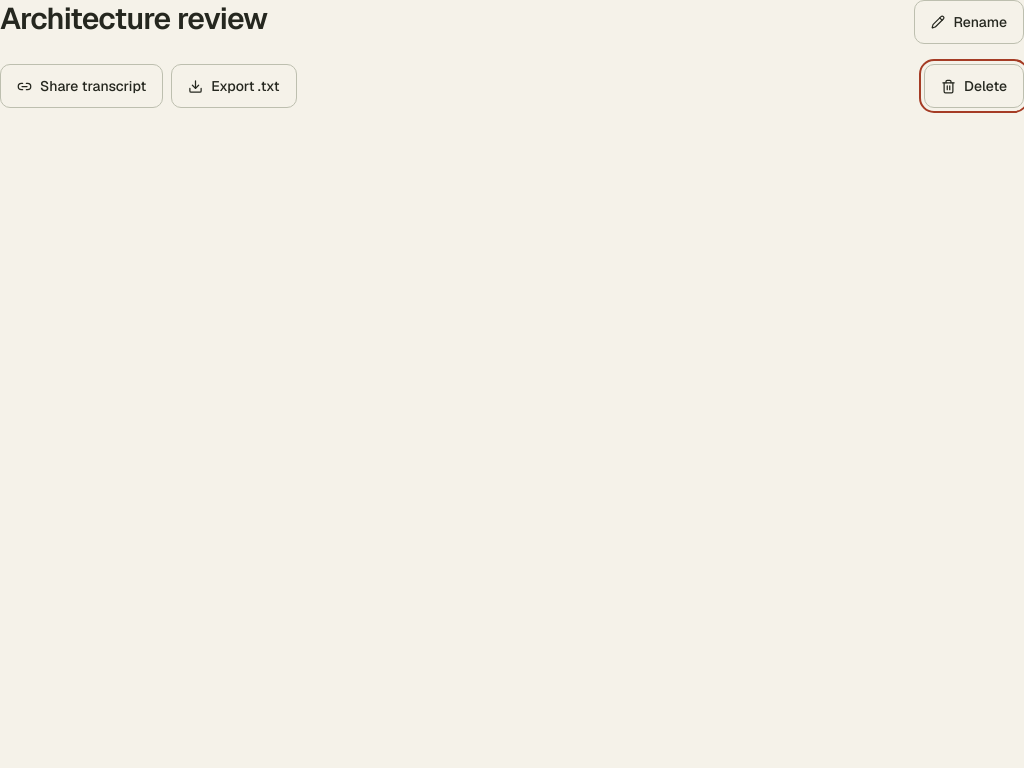
Test: saved transcript actions › opens a real confirmation before deletion and supports keeping the transcript
Click the button with aria-label "Delete transcript": (974, 86) [924, 64, 1023, 108]
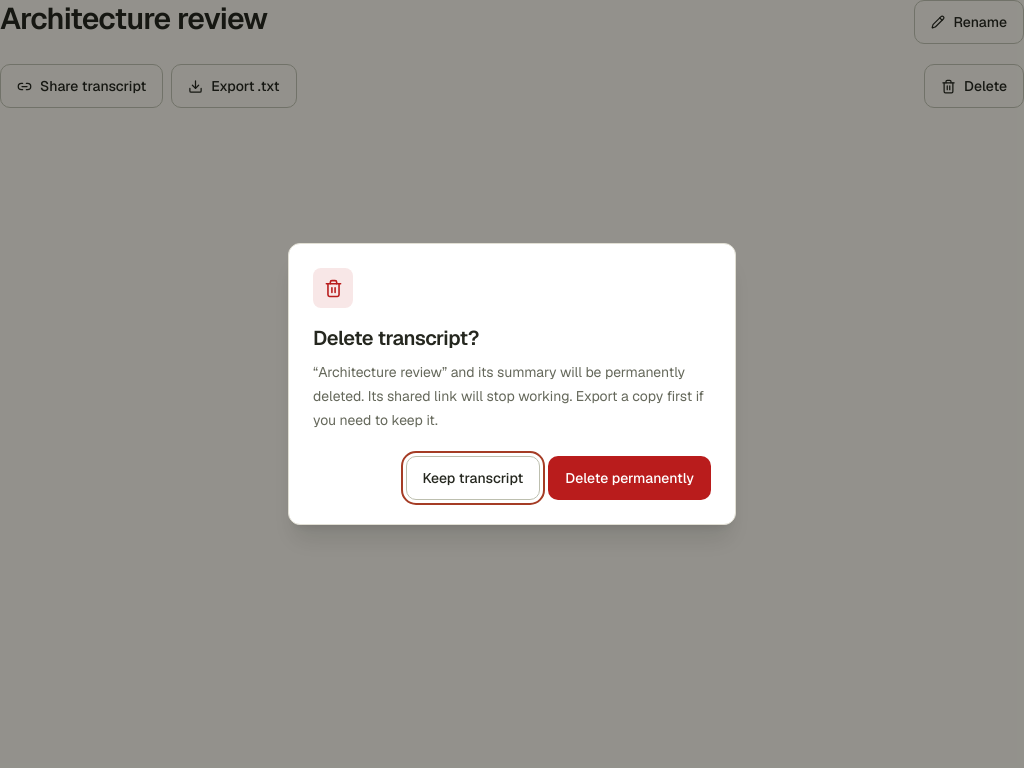
expect the dialog "Delete transcript?" shows "Architecture review": met, box [318, 363, 442, 381]
Click the button "Keep transcript": (473, 478) [406, 456, 540, 500]
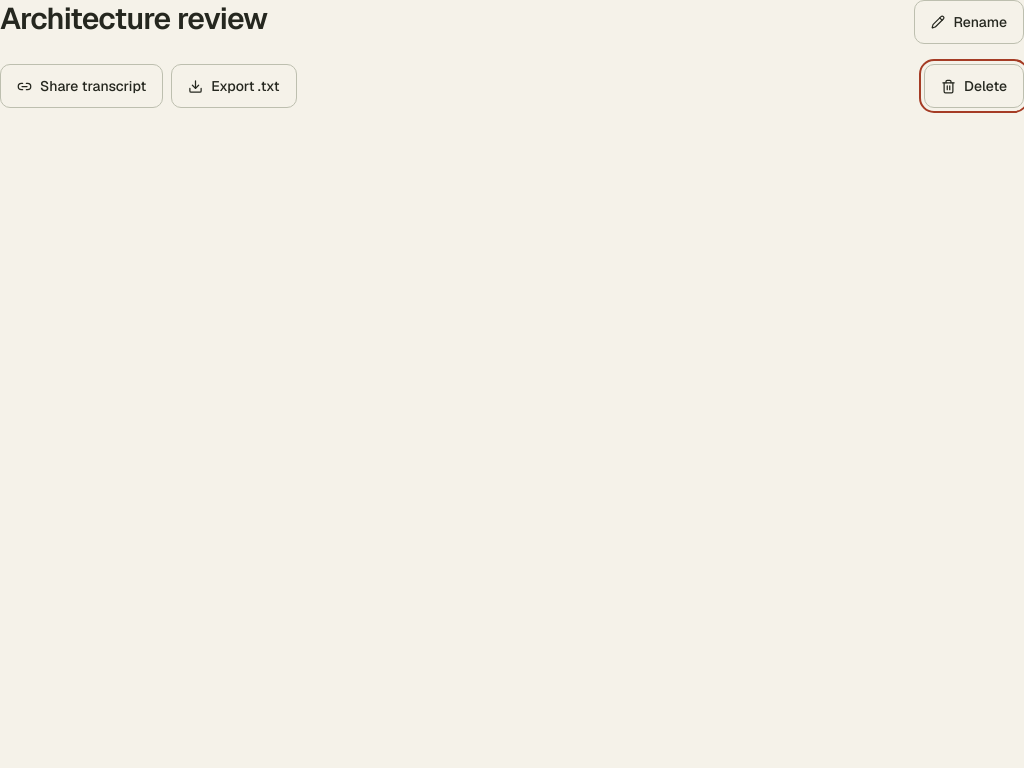
expect the dialog is gone: met
